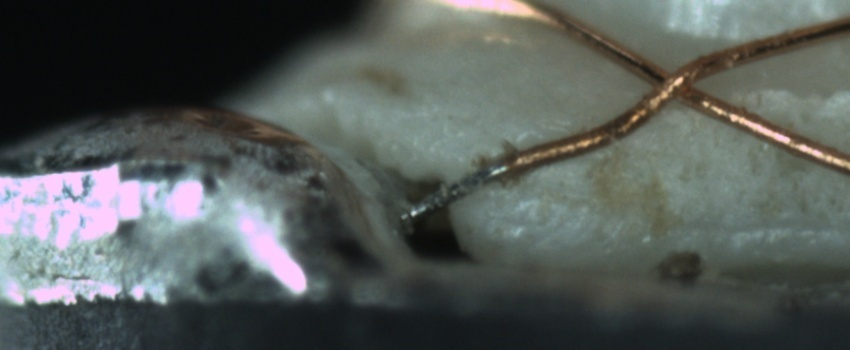CL: (631, 49, 720, 116)
TS: (398, 161, 514, 225)
TTCW: (400, 135, 572, 224)
